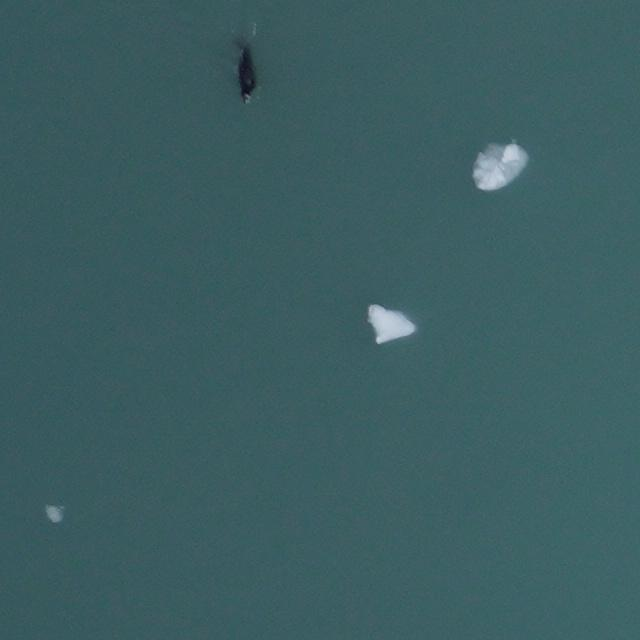seal: (233, 39, 262, 106)
